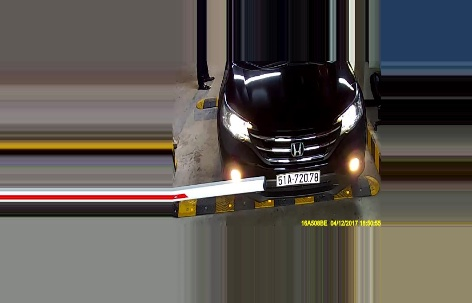plate: (276, 172, 319, 184)
